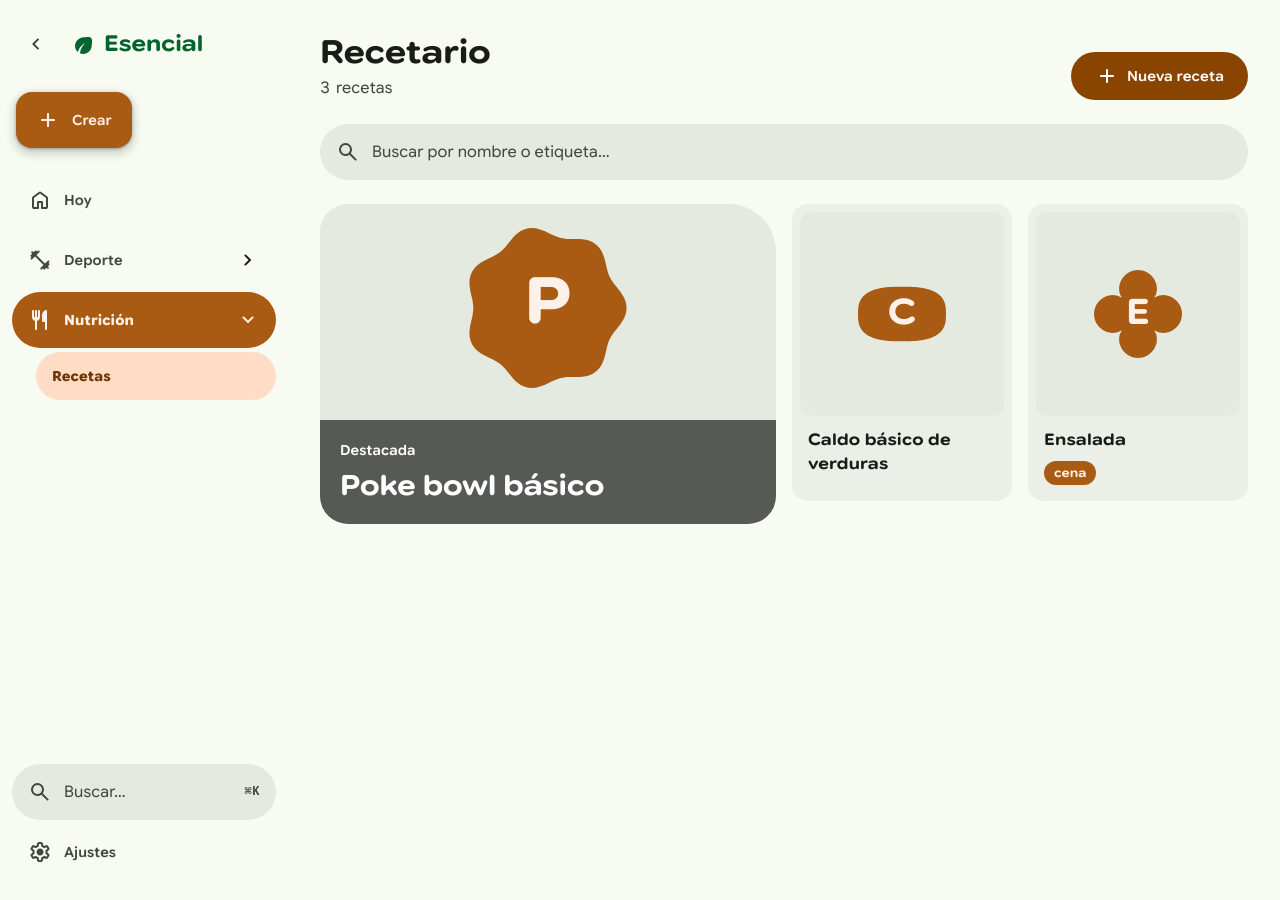
Scenario: /recetario — cuántas recetas coinciden › con búsqueda dice cuántas coinciden de cuántas, igual que las tarjetas
The width and height of the screenshot is (1280, 900).
Expected: the text "Poke bowl básico" is shown, [340, 468, 604, 503]
Type "basico" into the search field with placeholder "Buscar por nombre o etiqueta…" at x=802, y=152, box [372, 128, 1232, 176]
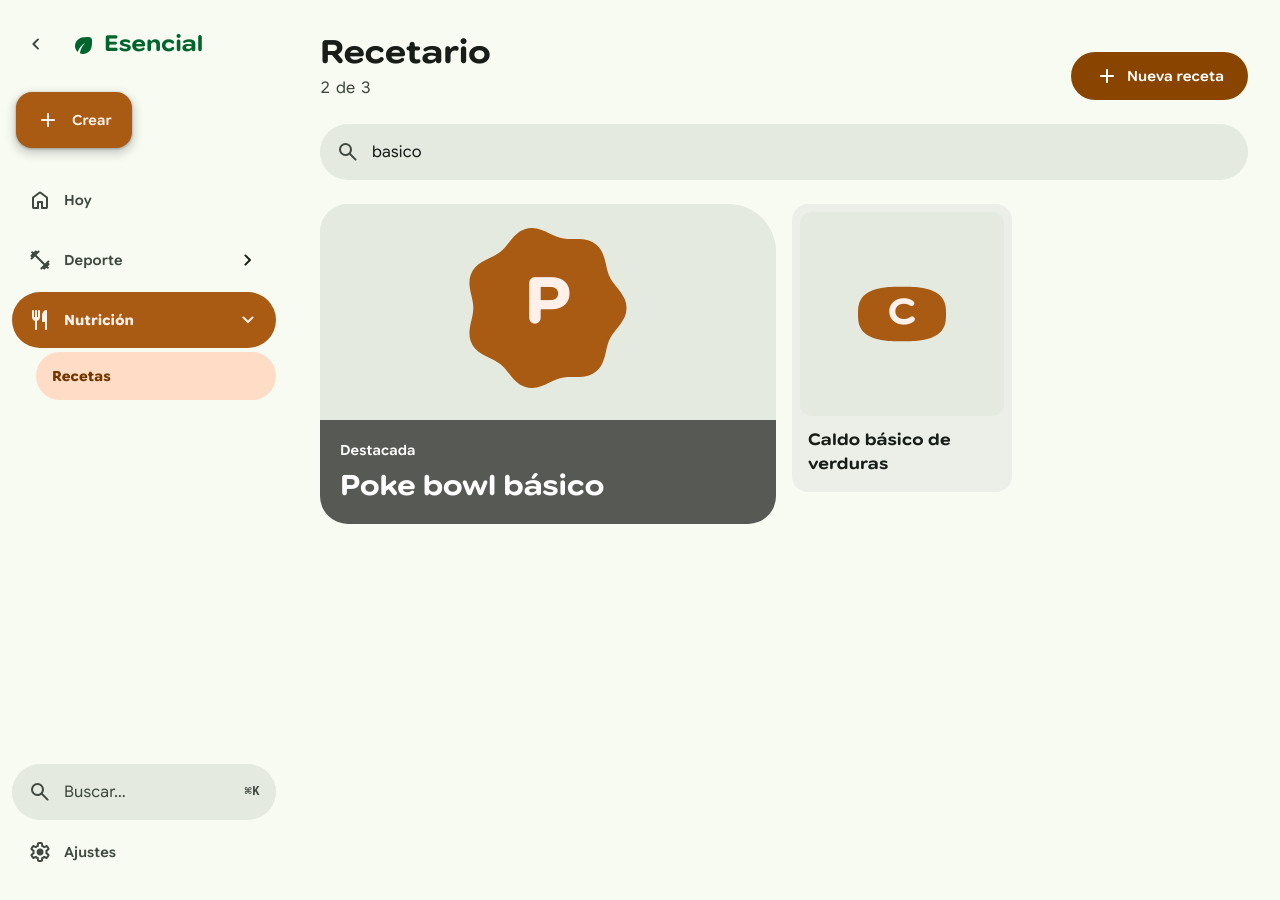
Expected: the text "Poke bowl básico" is shown, [340, 468, 604, 503]
Expected: the text "2 de 3" is shown, [320, 78, 372, 98]
Expected: the link "Ensalada" is gone
Replace the text in the search field named "Buscar recetas" with "BÁSICO" at x=802, y=152, box [372, 128, 1232, 176]
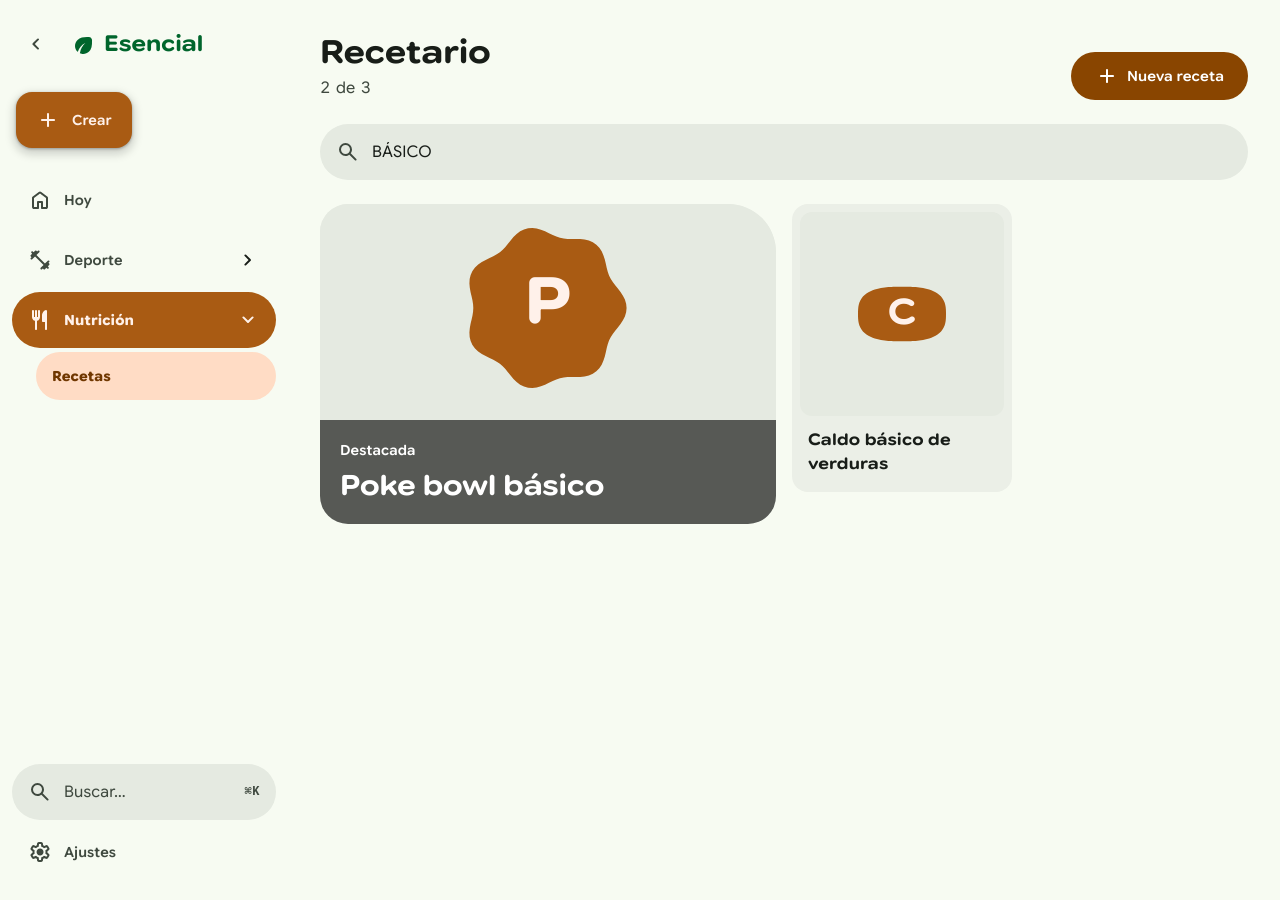
Expected: the text "2 de 3" is shown, [320, 78, 372, 98]
Replace the text in the search field named "Buscar recetas" with "cena" at x=802, y=152, box [372, 128, 1232, 176]
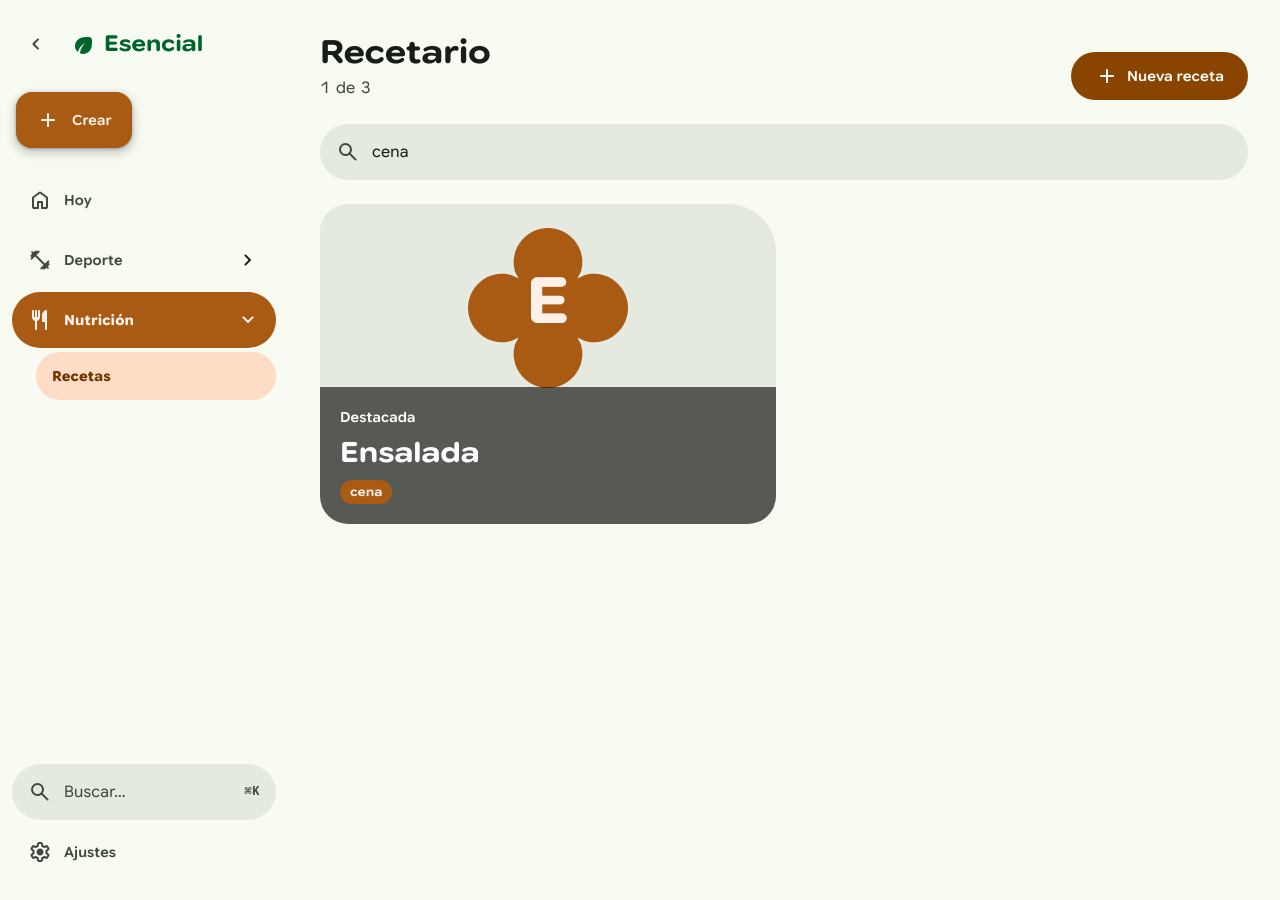
Expected: the text "1 de 3" is shown, [320, 78, 372, 98]
